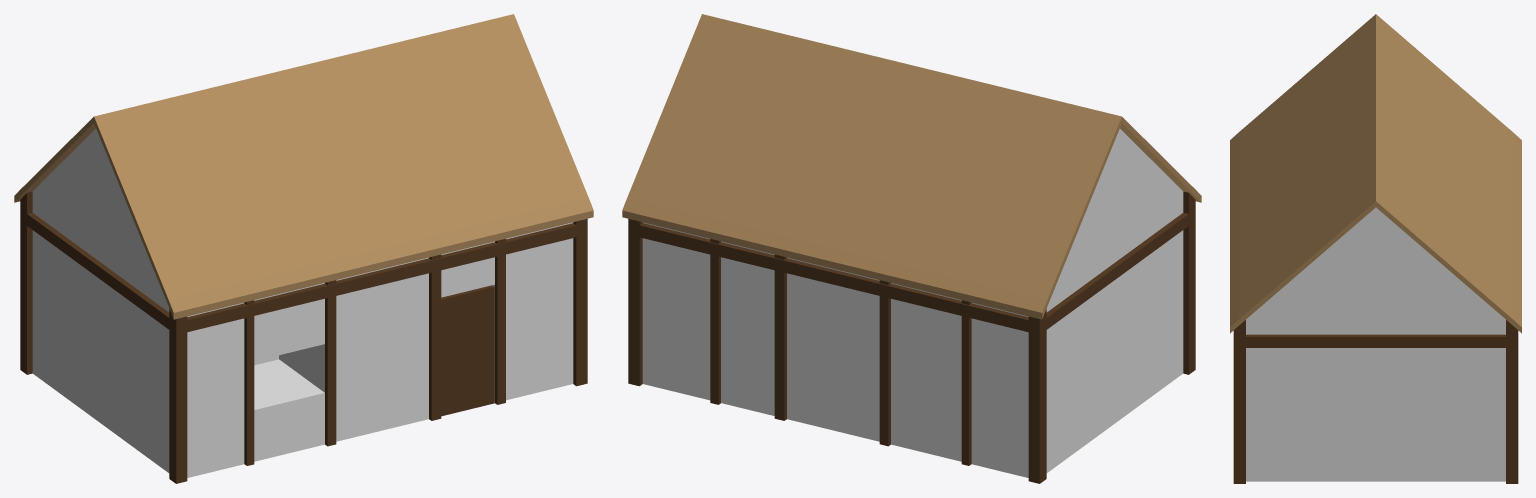
File: house1.fbx
3 views of the same model, side by side, from view 1: azimuth 30°, elevation 25°; view 2: azimuth 150°, elevation 25°; view 3: azimuth 270°, elevation 25° (orthographic). The views are drawn at different scales.
Parts seen in each view (by area): view 1: cottage1_GEO; view 2: cottage1_GEO; view 3: cottage1_GEO.
Part boxes in pixels (box(x1,y1,x2,y2)): cottage1_GEO: box(14, 14, 593, 483); cottage1_GEO: box(622, 14, 1201, 483); cottage1_GEO: box(1230, 14, 1521, 483).
Bounding box in the file's own units: 649 × 460 × 427.
